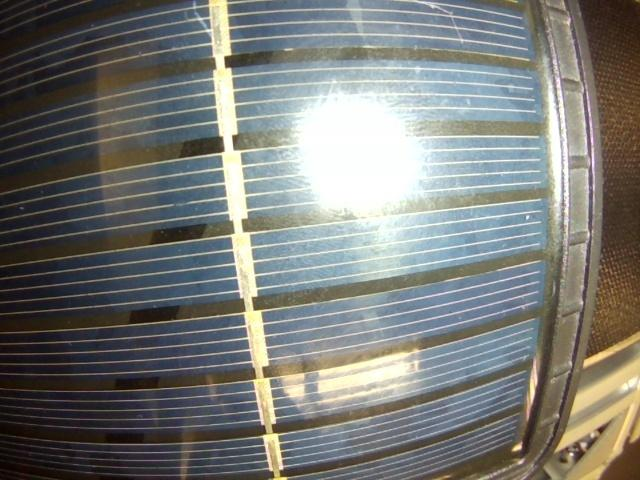crack: (413, 0, 463, 49), (193, 1, 210, 36)
